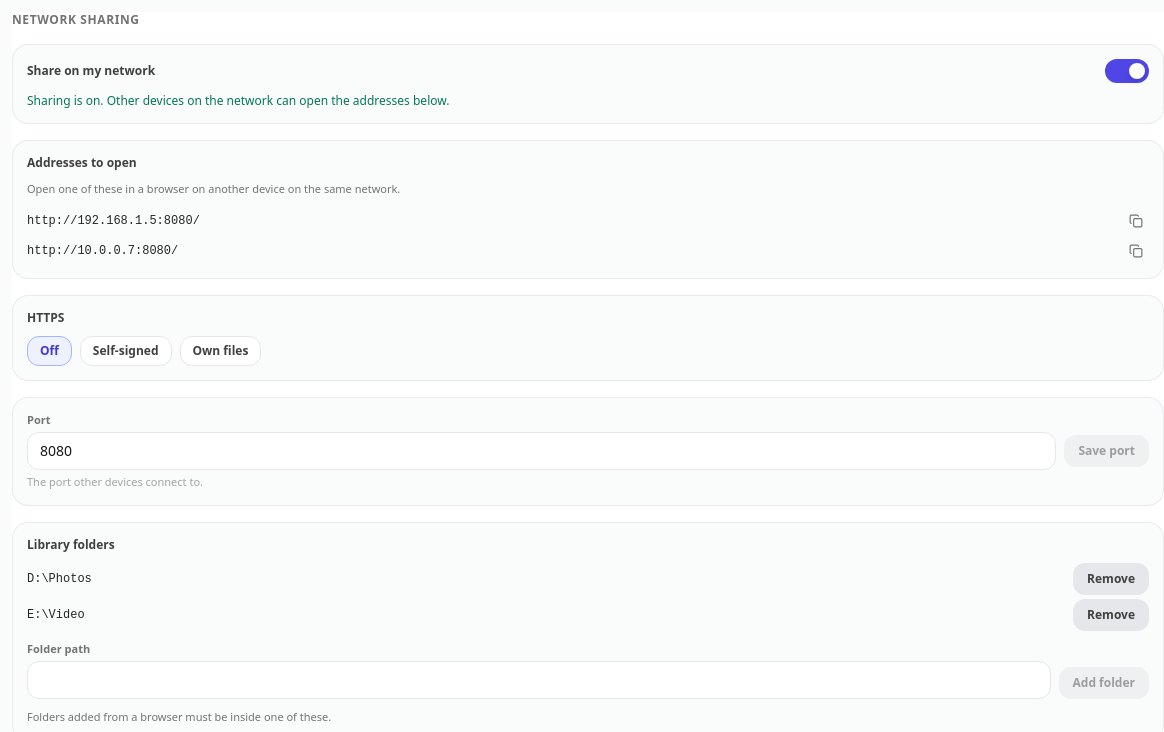
Test: SharingSection › the switch › sends enabled: false
Click the switch named "Share on my network".
click(1127, 71)  # box x1=1105 y1=59 x2=1149 y2=83
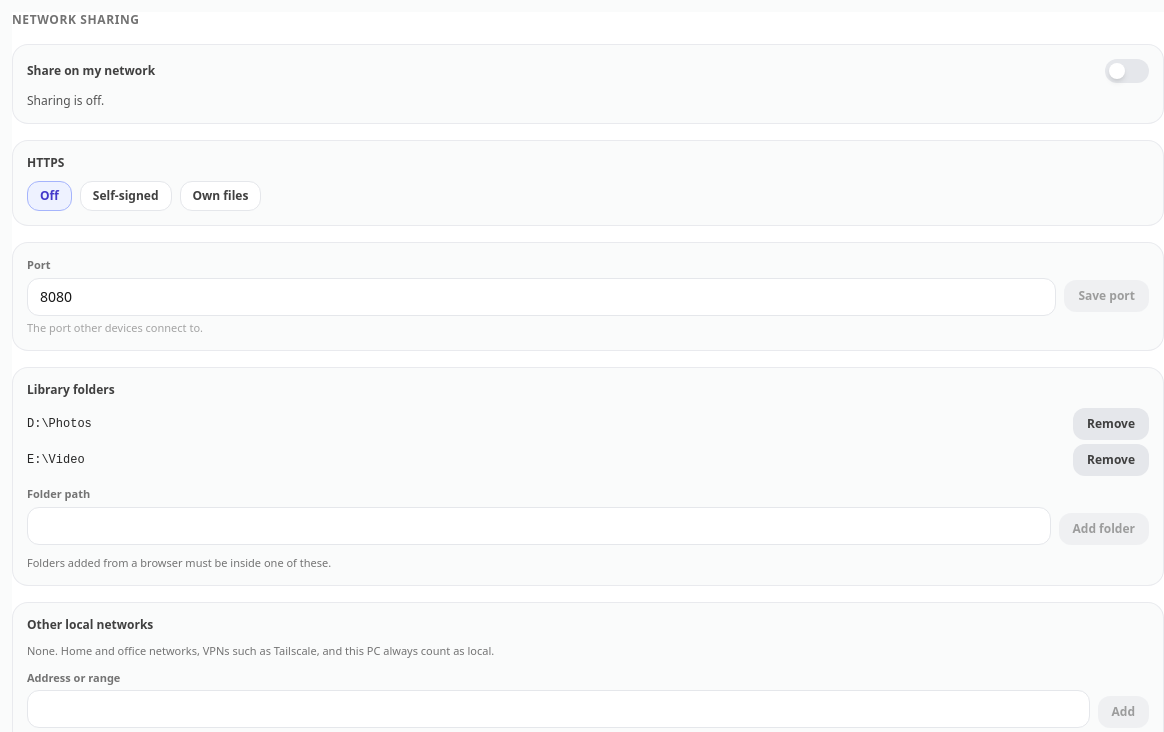
Now the heading "Addresses to open" is gone
